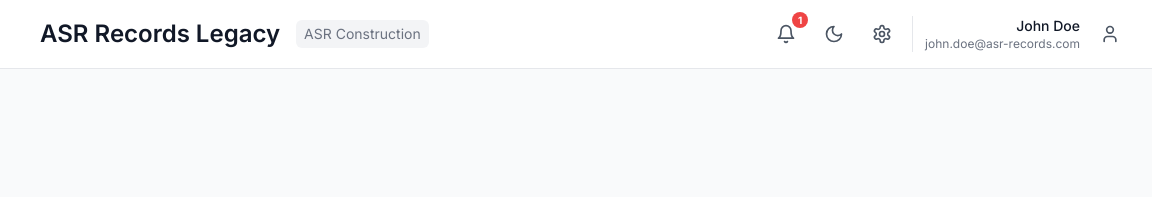
Test: Header › opens notification dropdown on click and shows notification titles
Click the button named "notifications" at [786, 34], box [768, 16, 804, 52]
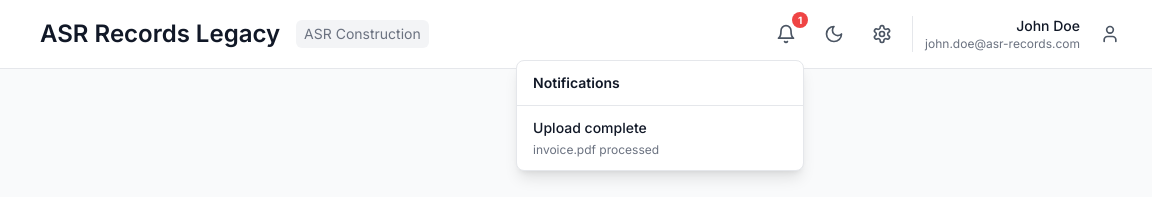
Expected: the text "Upload complete" is shown, [533, 119, 647, 136]
Expected: the text "invoice.pdf processed" is shown, [533, 142, 659, 157]
